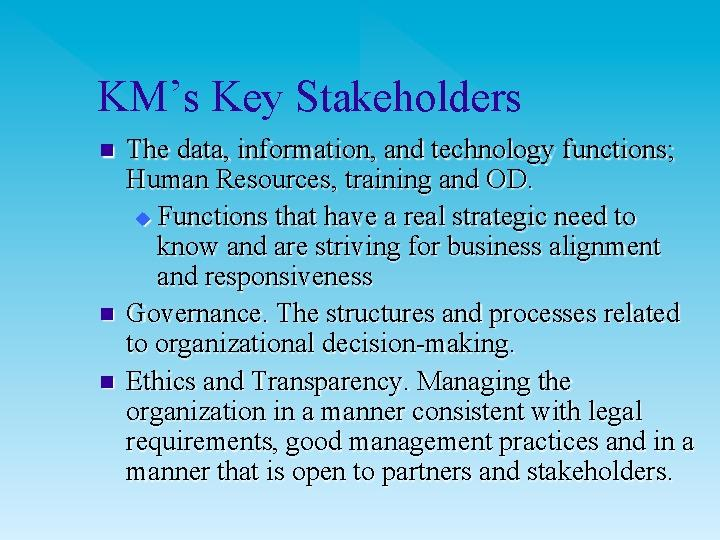paragraph: (65, 130, 710, 507)
title: (87, 64, 549, 127)
